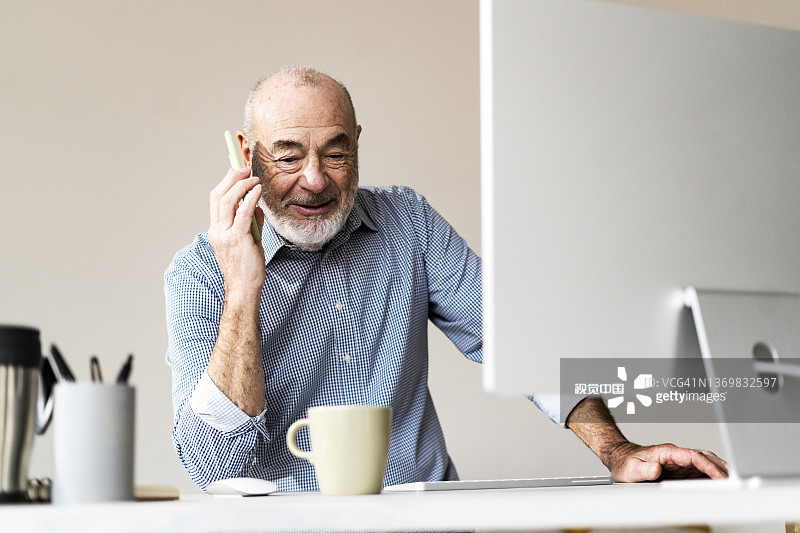calling: (189, 126, 291, 320)
no-phone: (595, 429, 737, 493)
